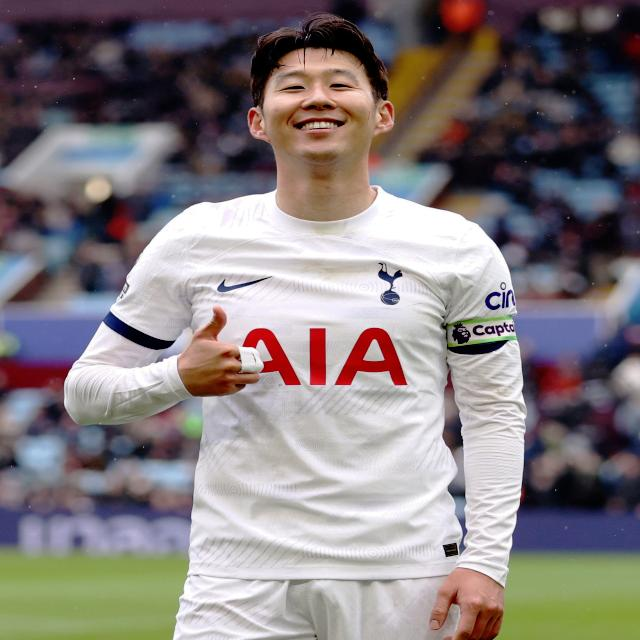other_gesture: (426, 563, 509, 640)
thumbs_up: (177, 302, 263, 402)
